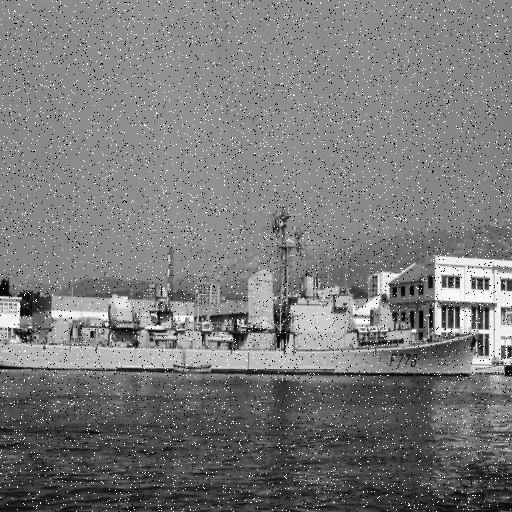Fragata: (1, 188, 482, 380)
